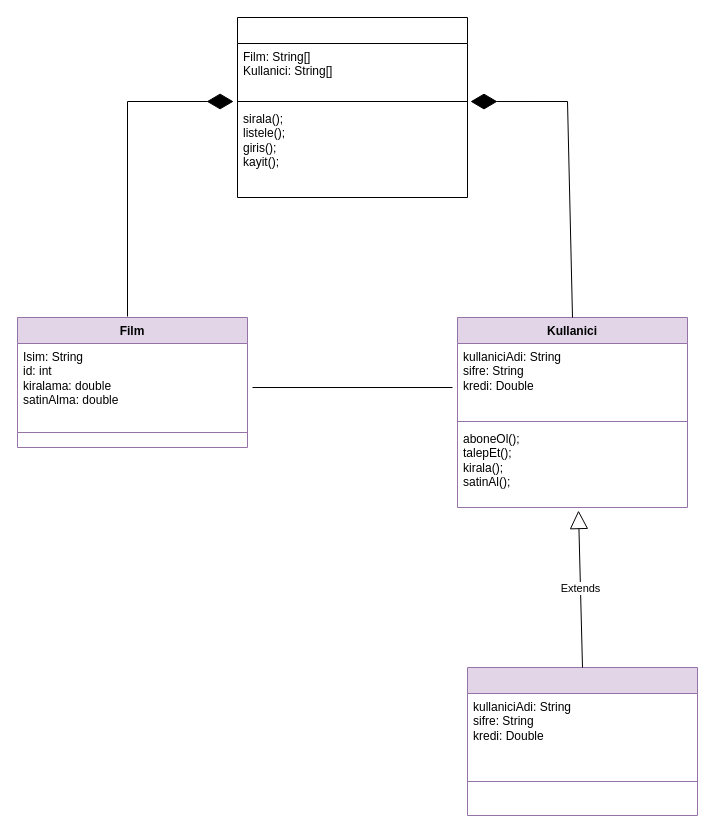
This 715x833 diagram has some shape labels left out. Each missing label, with the box of its shape:
Abone: (466, 666, 698, 816)
FilmUygulamasi: (236, 16, 468, 198)
